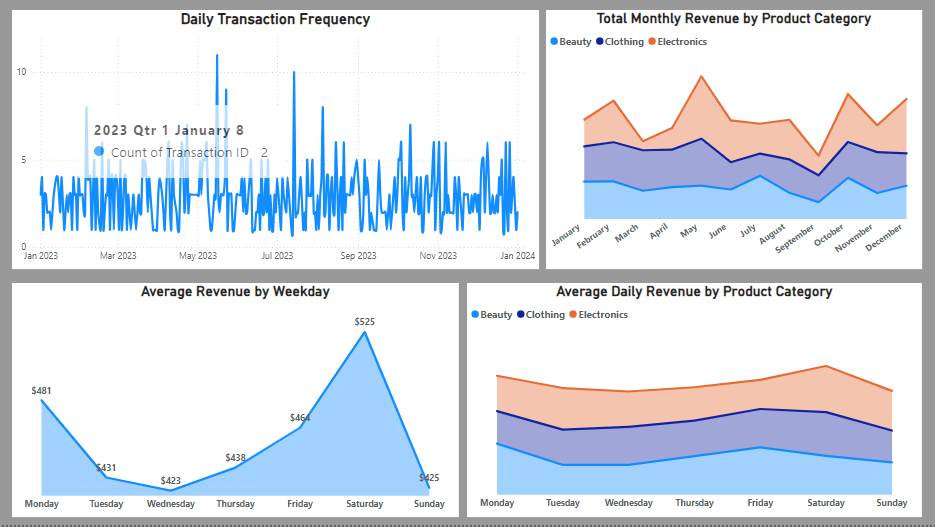

This screenshot's page, from the dashboard's own definition file:
{"tool":"powerbi","page":{"name":" Transactional Insights","canvas":[1280,720],"ordinal":2},"visuals":[{"type":"lineChart","title":"Daily Transaction Frequency","fields":{"Y":["CountNonNull(retail_sales_dataset.Transaction ID)"],"Category":["retail_sales_dataset.Date.Variation.Date Hierarchy.Year","retail_sales_dataset.Date.Variation.Date Hierarchy.Quarter","retail_sales_dataset.Date.Variation.Date Hierarchy.Month","retail_sales_dataset.Date.Variation.Date Hierarchy.Day"]},"box":[22,20.6,715.7,352.3],"z":0},{"type":"lineChart","title":"Average Revenue by Weekday","fields":{"Y":["Avg(retail_sales_dataset.Total Amount)"],"Category":["retail_sales_dataset.Day of Week"]},"box":[22,390.9,607,317.9],"z":1000},{"type":"stackedAreaChart","title":"Average Daily Revenue by Product Category","fields":{"Y":["Avg(retail_sales_dataset.Total Amount)"],"Category":["retail_sales_dataset.Day of Week"],"Series":["retail_sales_dataset.Product Category"]},"box":[640,390.9,618,317.9],"z":2000},{"type":"stackedAreaChart","title":"Total Monthly Revenue by Product Category","fields":{"Category":["retail_sales_dataset.Date.Variation.Date Hierarchy.Month"],"Y":["Sum(retail_sales_dataset.Total Amount)"],"Series":["retail_sales_dataset.Product Category"]},"box":[747.4,20.6,510.6,352.3],"z":3000}]}

Visuals, with their boxes in screenshot pixels (x1, y1, x2, y2), scaled from the page's 1280x720 canvas onto the 935x527 screenshot:
"Daily Transaction Frequency" lineChart: [16,15,539,273]
"Average Revenue by Weekday" lineChart: [16,286,459,519]
"Average Daily Revenue by Product Category" stackedAreaChart: [468,286,919,519]
"Total Monthly Revenue by Product Category" stackedAreaChart: [546,15,919,273]
